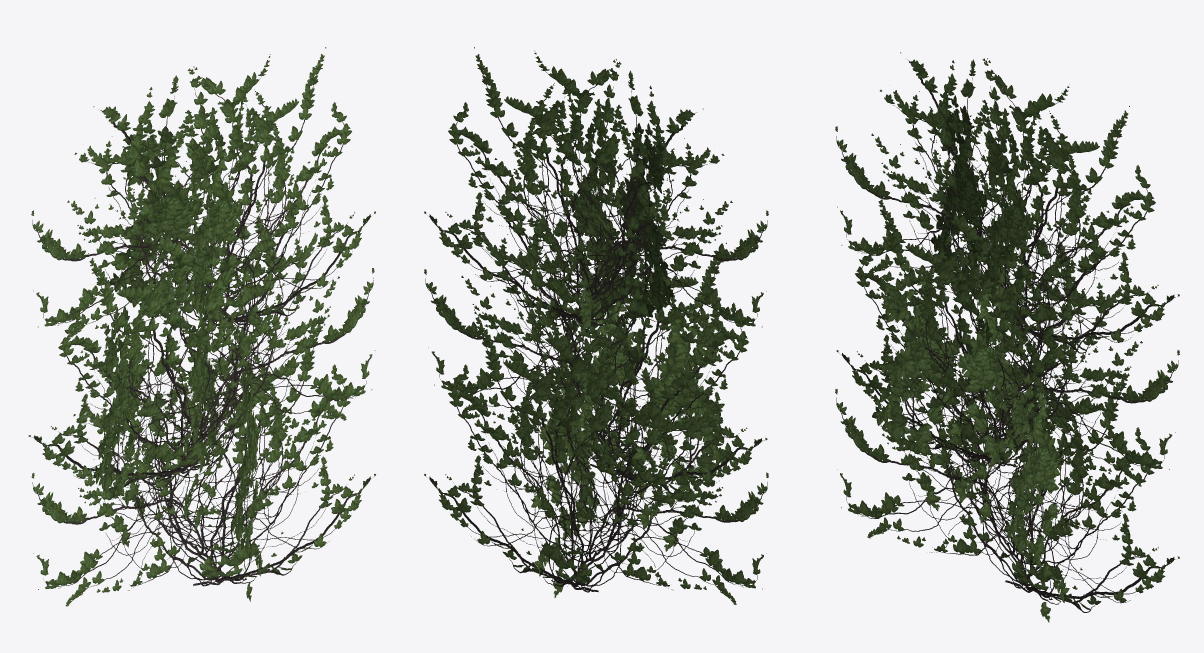
File: Plant_Climber_Short.FBX
The picture shows the model from 3 angles, left to right: view 1: azimuth 30°, elevation 25°; view 2: azimuth 150°, elevation 25°; view 3: azimuth 330°, elevation 25°; orthographic projection.
Visible parts, largest first — view 1: Plant_Climber_Short; view 2: Plant_Climber_Short; view 3: Plant_Climber_Short.
Boxes of the visible parts, left/top/right/bottom form: Plant_Climber_Short: left=28, top=47, right=375, bottom=606; Plant_Climber_Short: left=424, top=47, right=768, bottom=604; Plant_Climber_Short: left=835, top=52, right=1179, bottom=622.
Bounding box in the file's own units: 259 × 377 × 42.97.
